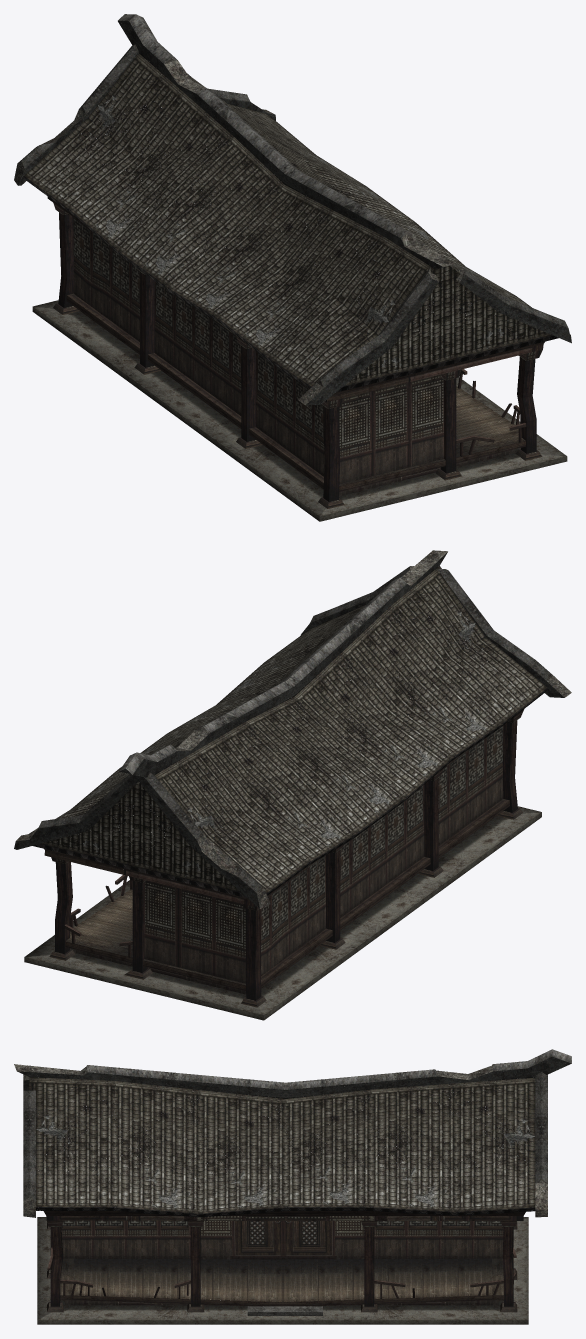
File: ep-033-guesthouse-02.glb
3 renders of one model, top to bottom at view 1: azimuth 30°, elevation 25°; view 2: azimuth 150°, elevation 25°; view 3: azimuth 270°, elevation 25°, orthographic. The views are drawn at different scales.
Visible parts, largest first — view 1: ep-033-guesthouse-01, ep-033-guesthouse-02; view 2: ep-033-guesthouse-01, ep-033-guesthouse-02; view 3: ep-033-guesthouse-01, ep-033-guesthouse-02.
Boxes of the visible parts, x1,y1,x2,y2 form: ep-033-guesthouse-01: [14, 14, 571, 405]; ep-033-guesthouse-02: [32, 189, 567, 521]; ep-033-guesthouse-01: [14, 550, 571, 909]; ep-033-guesthouse-02: [24, 691, 541, 1020]; ep-033-guesthouse-01: [14, 1049, 571, 1315]; ep-033-guesthouse-02: [37, 1137, 528, 1324].
Size of the model in its own units: 12.79 by 11.57 by 26.46.
3 materials, 3 textured.
